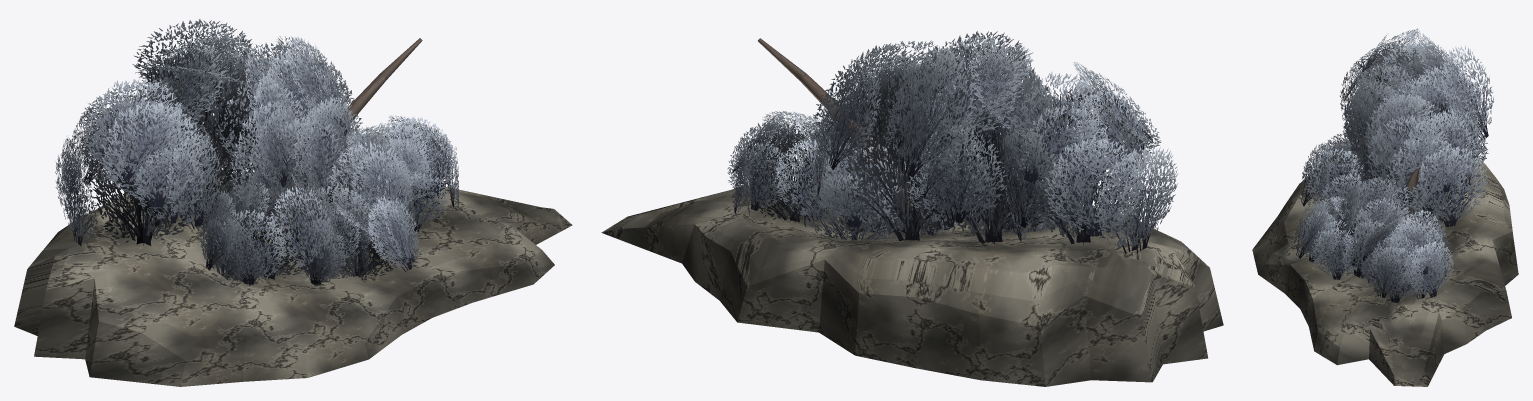
Rendered from mm6_deco_cac27.glb.
The picture shows the model from 3 angles, left to right: view 1: azimuth 30°, elevation 25°; view 2: azimuth 150°, elevation 25°; view 3: azimuth 270°, elevation 25°; orthographic projection. The views are drawn at different scales.
Parts seen in each view (by area): view 1: Shrub; view 2: Shrub; view 3: Shrub.
Boxes of the visible parts, <box> form: Shrub: <box>14,19,572,386</box>; Shrub: <box>601,31,1223,386</box>; Shrub: <box>1252,28,1518,386</box>.
Bounding box in the file's own units: 3.81 × 1.78 × 2.06.
2 materials, 2 textured.
